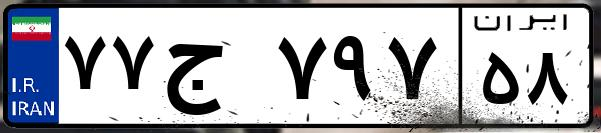5: (475, 38, 525, 113)
7: (270, 28, 330, 110), (385, 28, 445, 110), (57, 26, 110, 100), (110, 28, 158, 98)
8: (525, 38, 570, 115)
9: (330, 28, 385, 110)
ج: (158, 20, 270, 120)
